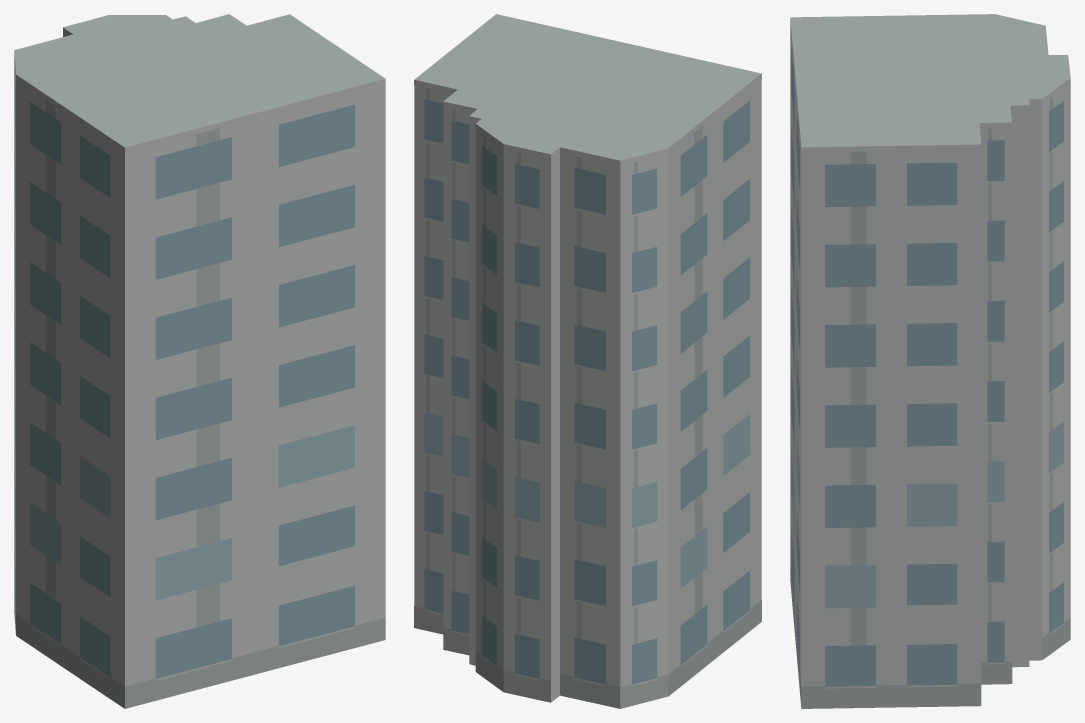
Rendered from survey-upis-32827407.glb.
3 views of the same model, side by side, from view 1: azimuth 30°, elevation 25°; view 2: azimuth 150°, elevation 25°; view 3: azimuth 270°, elevation 25° (orthographic). The views are drawn at different scales.
Parts seen in each view (by area): view 1: survey-upis-32827407.tmp; view 2: survey-upis-32827407.tmp; view 3: survey-upis-32827407.tmp.
Boxes of the visible parts, x1,y1,x2,y2 form: survey-upis-32827407.tmp: (14, 14, 385, 708); survey-upis-32827407.tmp: (414, 14, 761, 708); survey-upis-32827407.tmp: (790, 14, 1070, 708).
Size of the model in its own units: 12.94 by 25.4 by 11.5.
